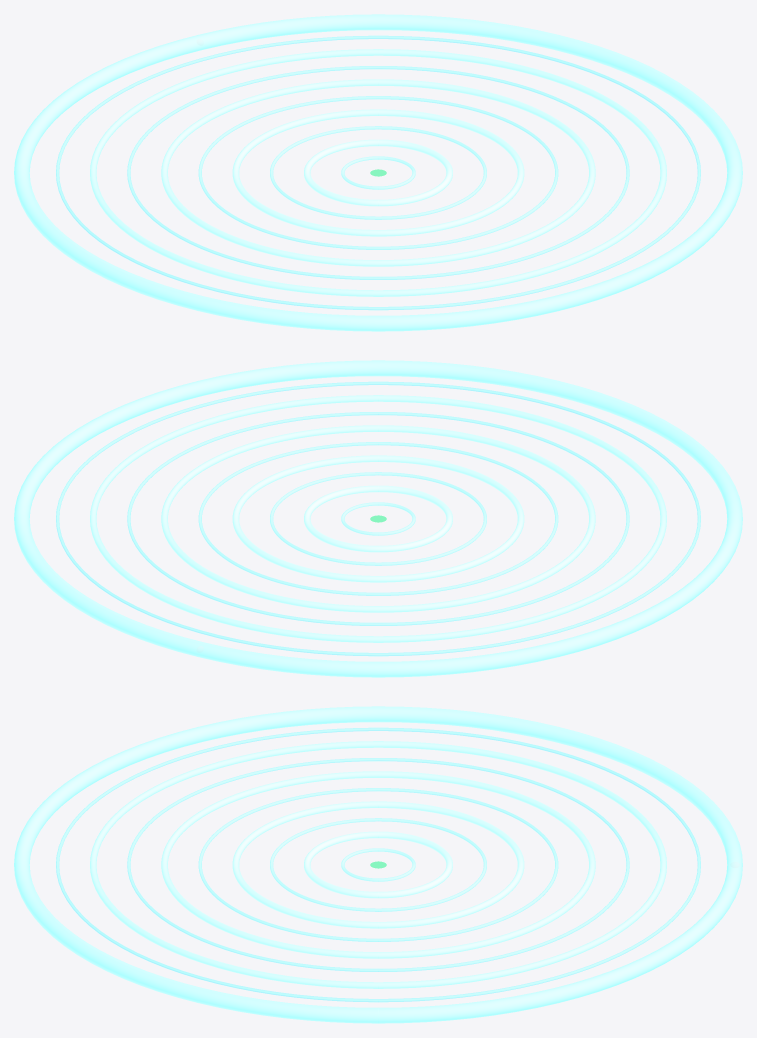
Rendered from tuner-rings.glb.
3 views of the same model, one above another, from view 1: azimuth 30°, elevation 25°; view 2: azimuth 150°, elevation 25°; view 3: azimuth 270°, elevation 25° (orthographic).
Parts seen in each view (by area): view 1: Tune3D_ring_50, Tune3D_ring_40, Tune3D_ring_30, Tune3D_ring_45, Tune3D_ring_20, Tune3D_ring_35, Tune3D_ring_25, Tune3D_ring_10, Tune3D_ring_15, Tune3D_ring_05; view 2: Tune3D_ring_50, Tune3D_ring_40, Tune3D_ring_30, Tune3D_ring_45, Tune3D_ring_20, Tune3D_ring_35, Tune3D_ring_25, Tune3D_ring_10, Tune3D_ring_15, Tune3D_ring_05; view 3: Tune3D_ring_50, Tune3D_ring_40, Tune3D_ring_30, Tune3D_ring_45, Tune3D_ring_20, Tune3D_ring_35, Tune3D_ring_25, Tune3D_ring_10, Tune3D_ring_15, Tune3D_ring_05.
Part boxes in pixels (x1,y1,x2,y2): Tune3D_ring_50: [14, 14, 742, 331]; Tune3D_ring_40: [90, 49, 666, 296]; Tune3D_ring_30: [161, 79, 595, 266]; Tune3D_ring_45: [56, 35, 700, 310]; Tune3D_ring_20: [232, 109, 524, 236]; Tune3D_ring_35: [127, 66, 629, 279]; Tune3D_ring_25: [198, 96, 558, 249]; Tune3D_ring_10: [304, 139, 452, 206]; Tune3D_ring_15: [270, 126, 486, 219]; Tune3D_ring_05: [341, 156, 415, 189]; Tune3D_ring_50: [14, 360, 742, 677]; Tune3D_ring_40: [90, 395, 666, 642]; Tune3D_ring_30: [161, 425, 595, 612]; Tune3D_ring_45: [56, 381, 700, 656]; Tune3D_ring_20: [232, 455, 524, 582]; Tune3D_ring_35: [127, 412, 629, 625]; Tune3D_ring_25: [198, 442, 558, 595]; Tune3D_ring_10: [304, 485, 452, 552]; Tune3D_ring_15: [270, 472, 486, 565]; Tune3D_ring_05: [341, 502, 415, 535]; Tune3D_ring_50: [14, 706, 742, 1023]; Tune3D_ring_40: [90, 741, 666, 988]; Tune3D_ring_30: [161, 771, 595, 958]; Tune3D_ring_45: [56, 727, 700, 1002]; Tune3D_ring_20: [232, 801, 524, 928]; Tune3D_ring_35: [127, 758, 629, 971]; Tune3D_ring_25: [198, 788, 558, 941]; Tune3D_ring_10: [304, 831, 452, 898]; Tune3D_ring_15: [270, 818, 486, 911]; Tune3D_ring_05: [341, 848, 415, 881].
Bounding box in the file's own units: 4.8 × 0.104 × 4.8.
